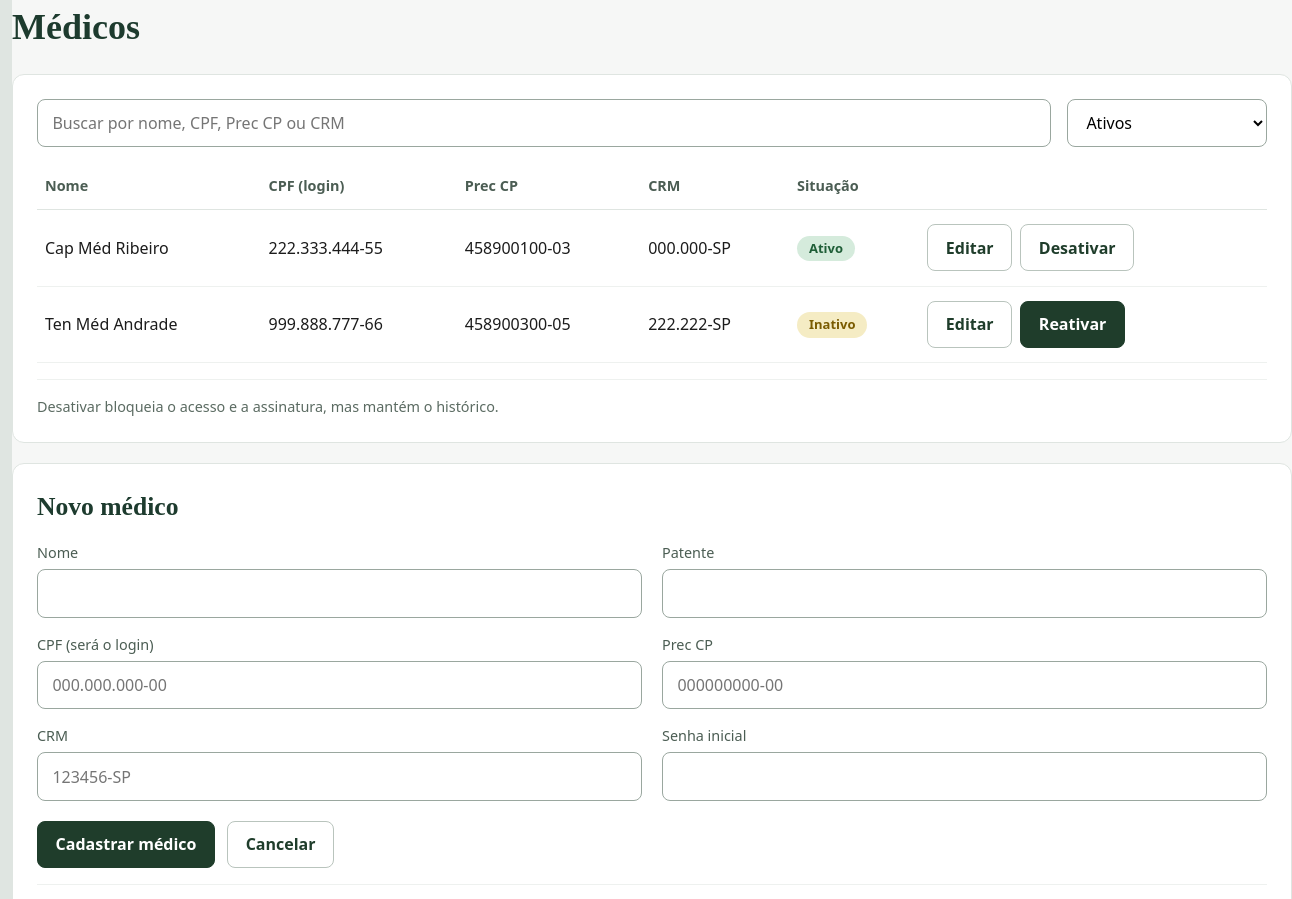
Test: T8-FE · Tela Médicos › mostra erros de validação ao enviar o formulário vazio
Check: the text "Cap Méd Ribeiro" is shown, box [37,210,260,286]
Click the button "Cadastrar médico".
click(126, 844)  # box [37,821,215,868]
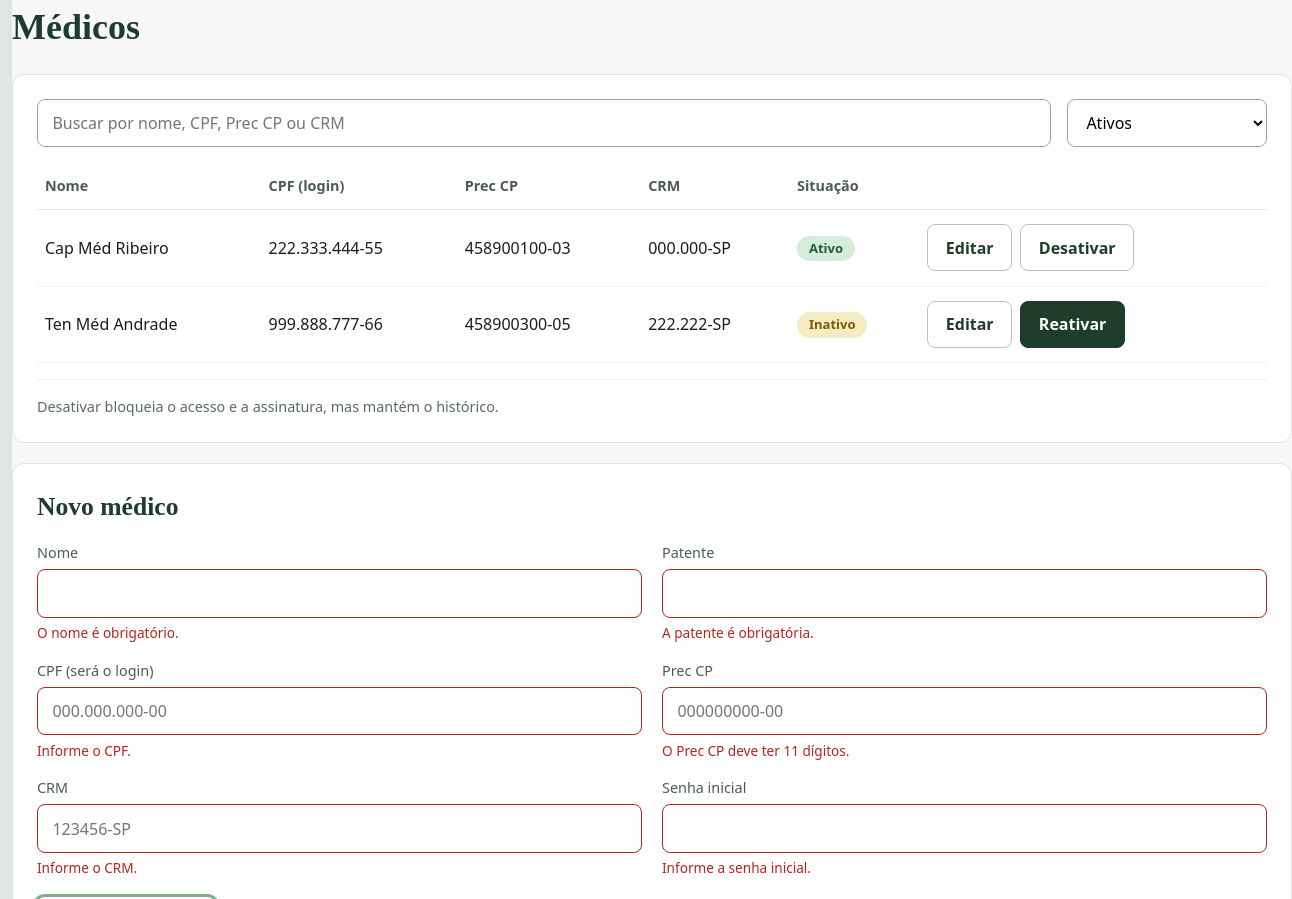
Check: the text "O nome é obrigatório." is shown, box [37,623,179,642]
Check: the text "Informe o CPF." is shown, box [37,741,131,760]
